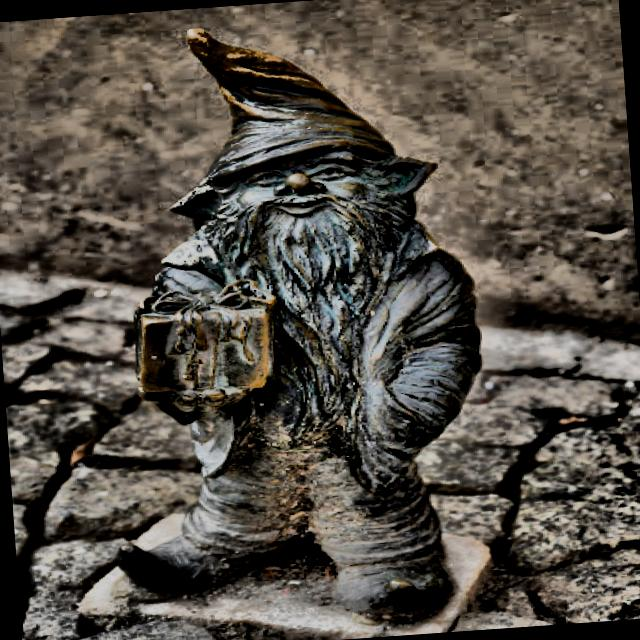Suvenirek: (118, 29, 481, 621)
